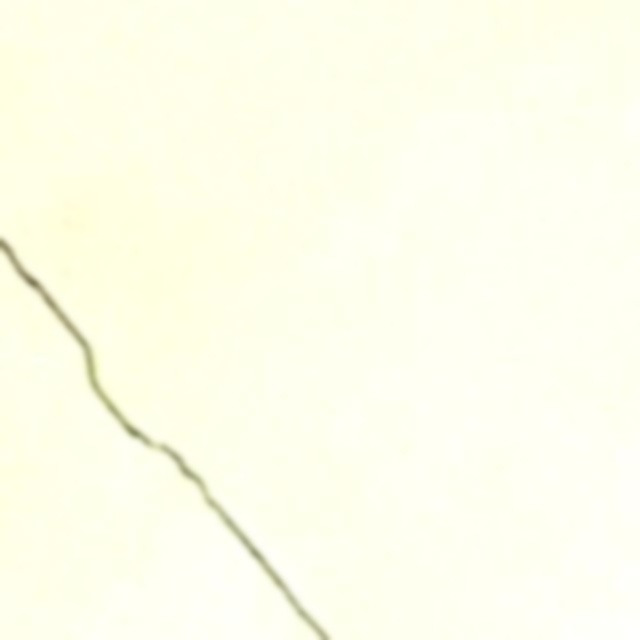SurfaceCrack: (0, 196, 348, 640)
